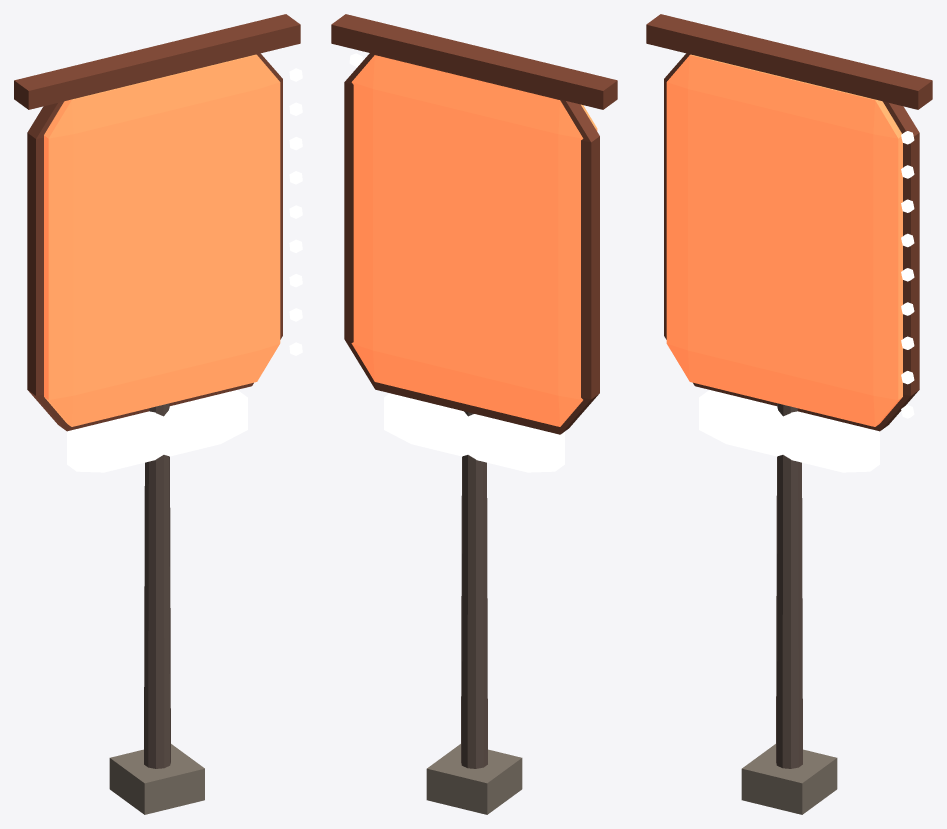
File: motel_sign.glb
3 views of the same model, side by side, from view 1: azimuth 30°, elevation 25°; view 2: azimuth 150°, elevation 25°; view 3: azimuth 330°, elevation 25° (orthographic).
Visible parts, largest first — view 1: motel_sign; view 2: motel_sign; view 3: motel_sign.
Part boxes in pixels (box(x1,y1,x2,y2)): motel_sign: box(14, 14, 302, 814); motel_sign: box(331, 14, 617, 814); motel_sign: box(646, 14, 932, 814).
Size of the model in its own units: 5.4 by 14.08 by 1.2.
